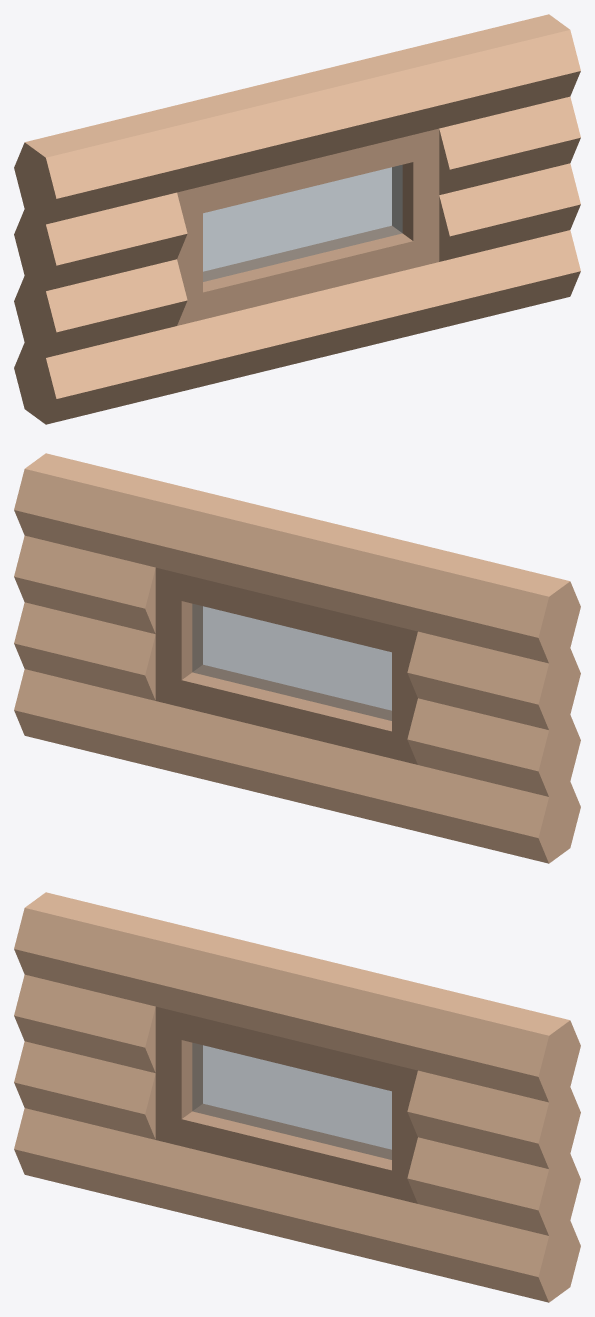
The model's file is cabinWindowHalf.glb.
3 views of the same model, one above another, from view 1: azimuth 30°, elevation 25°; view 2: azimuth 150°, elevation 25°; view 3: azimuth 330°, elevation 25° (orthographic).
Visible parts, largest first — view 1: cabinWindowHalf(Clone); view 2: cabinWindowHalf(Clone); view 3: cabinWindowHalf(Clone).
Part boxes in pixels (box(x1,y1,x2,y2)): cabinWindowHalf(Clone): box(14, 14, 580, 424); cabinWindowHalf(Clone): box(14, 453, 580, 863); cabinWindowHalf(Clone): box(14, 892, 580, 1302).
Size of the model in its own units: 1 by 0.4864 by 0.1404.
